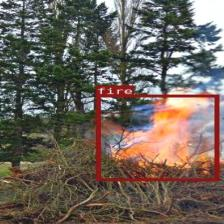fire: (95, 94, 218, 180)
